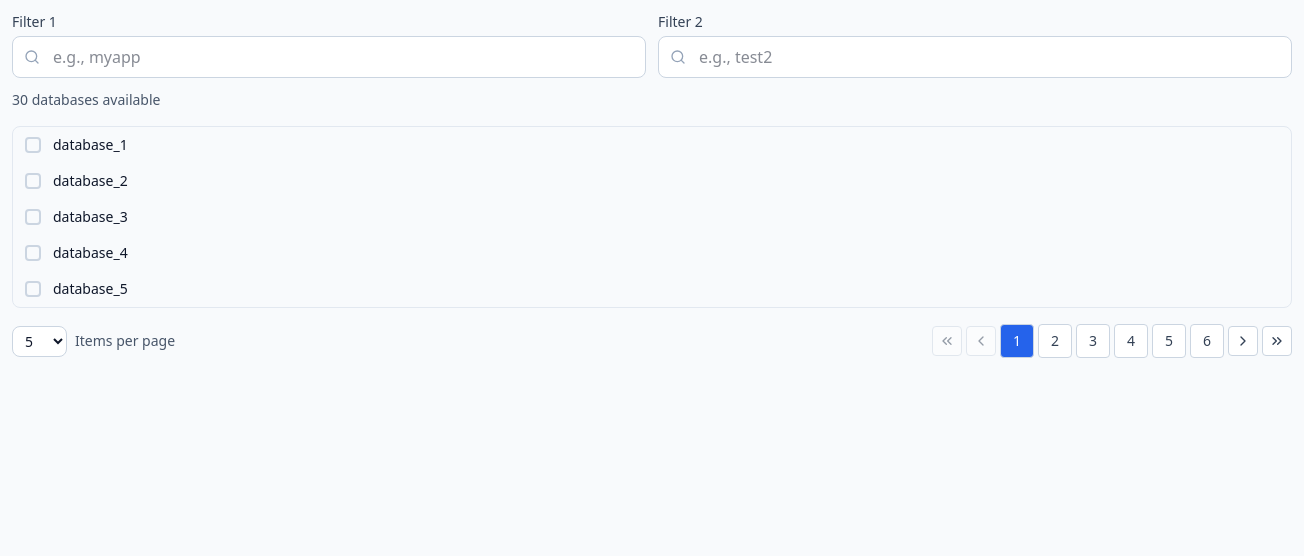
DatabaseSelector - Pagination › should reset to page 1 when items per page changes
The image size is (1304, 556).
Expected: the text "database_1" is shown, left=53, top=135, right=128, bottom=155
Note: Go to page 2
Click the button named "Next page" at (1243, 341), box left=1228, top=326, right=1258, bottom=356
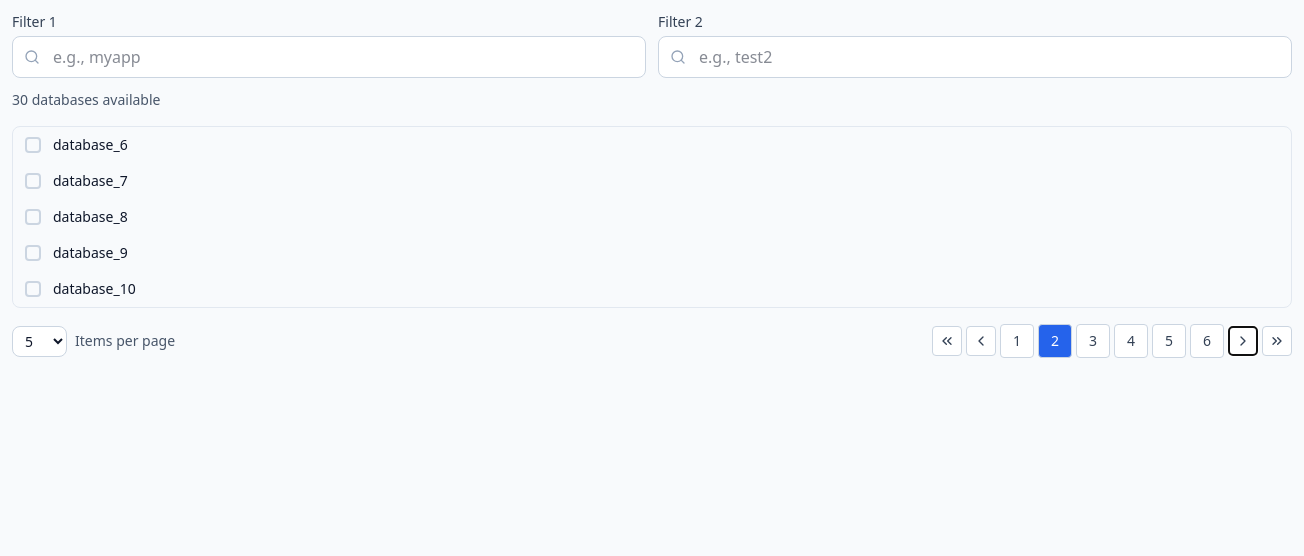
Note: Change items per page
Select "10" in the dropdown showing "5" at (40, 341), box left=12, top=326, right=67, bottom=356
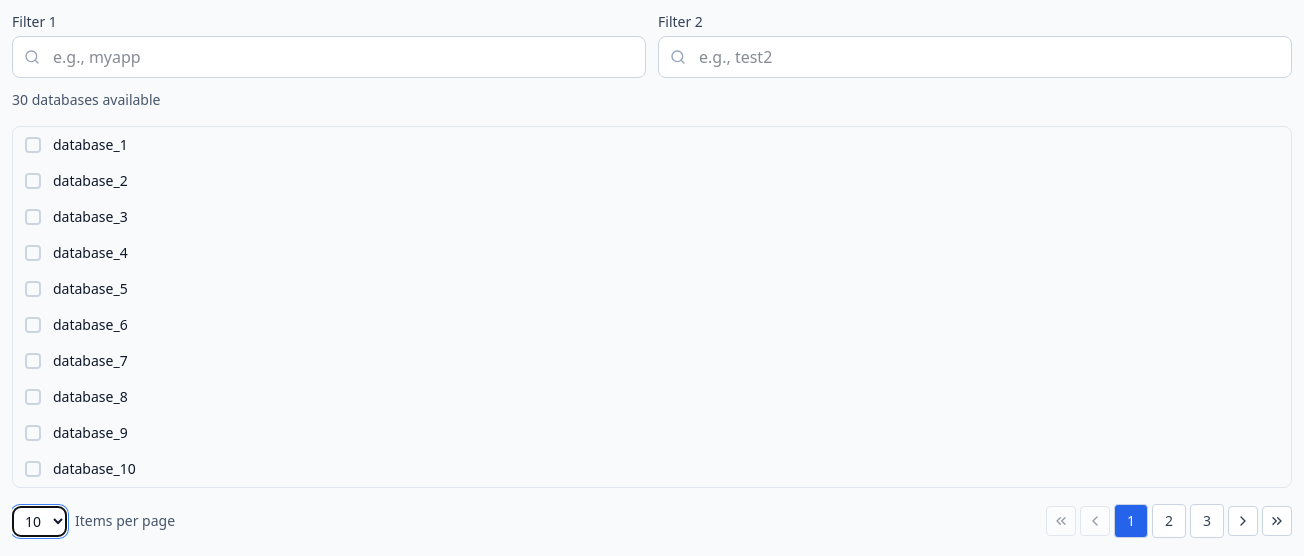
Now the text "database_1" is shown, box left=53, top=135, right=128, bottom=155
